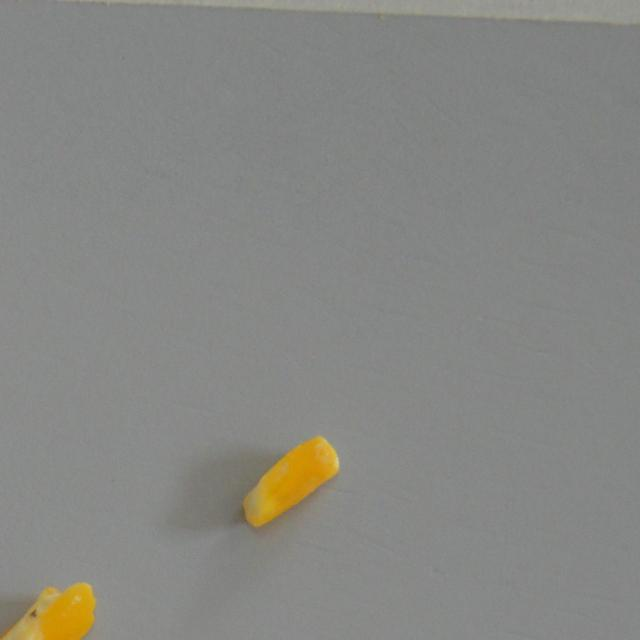pelicula: (226, 430, 355, 528)
punto_negro: (0, 580, 99, 640)
